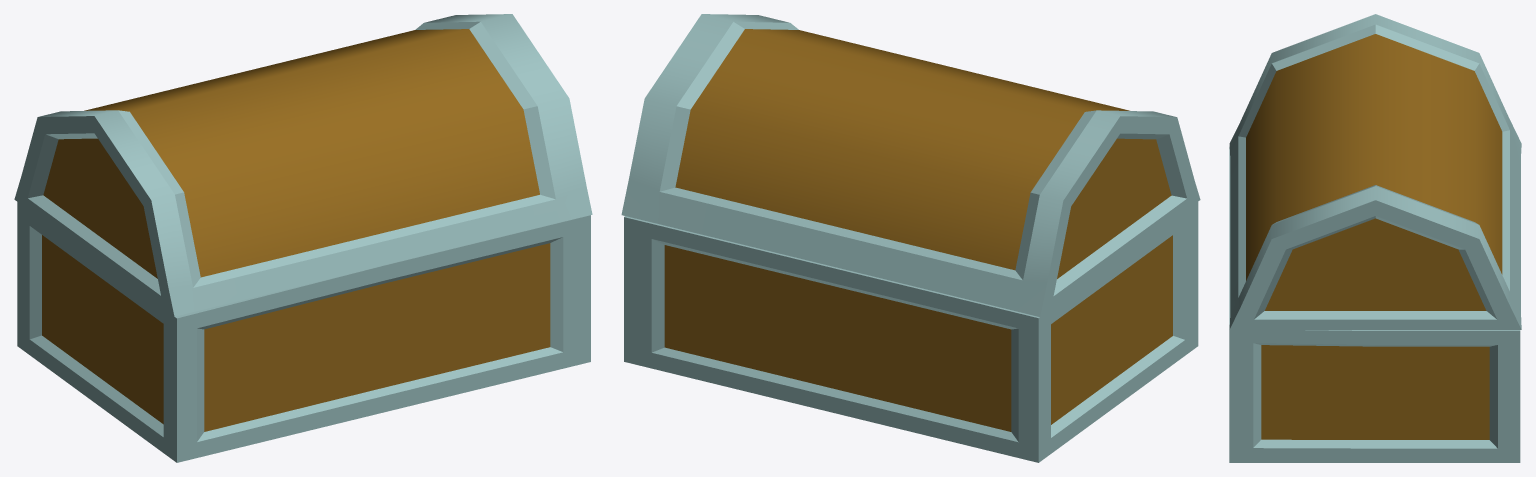
File: kovceg.FBX
3 views of the same model, side by side, from view 1: azimuth 30°, elevation 25°; view 2: azimuth 150°, elevation 25°; view 3: azimuth 270°, elevation 25° (orthographic). The views are drawn at different scales.
Parts seen in each view (by area): view 1: Cylinder009, Box1412; view 2: Cylinder009, Box1412; view 3: Cylinder009, Box1412.
Boxes of the visible parts, <box> form: Cylinder009: <box>14,14,592,316</box>; Box1412: <box>17,202,590,462</box>; Cylinder009: <box>621,14,1200,316</box>; Box1412: <box>624,202,1198,462</box>; Cylinder009: <box>1229,14,1521,329</box>; Box1412: <box>1229,147,1520,462</box>.
Size of the model in its own units: 62.9 by 41.53 by 41.76.
